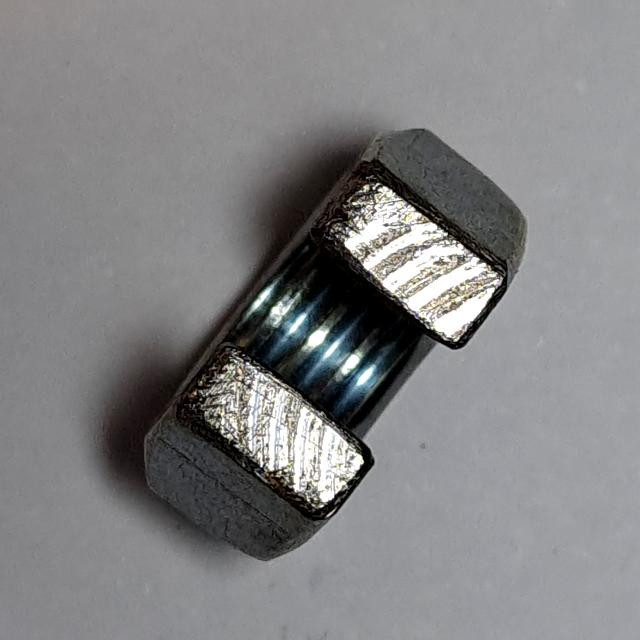Side-Fracture: (128, 117, 542, 575)
